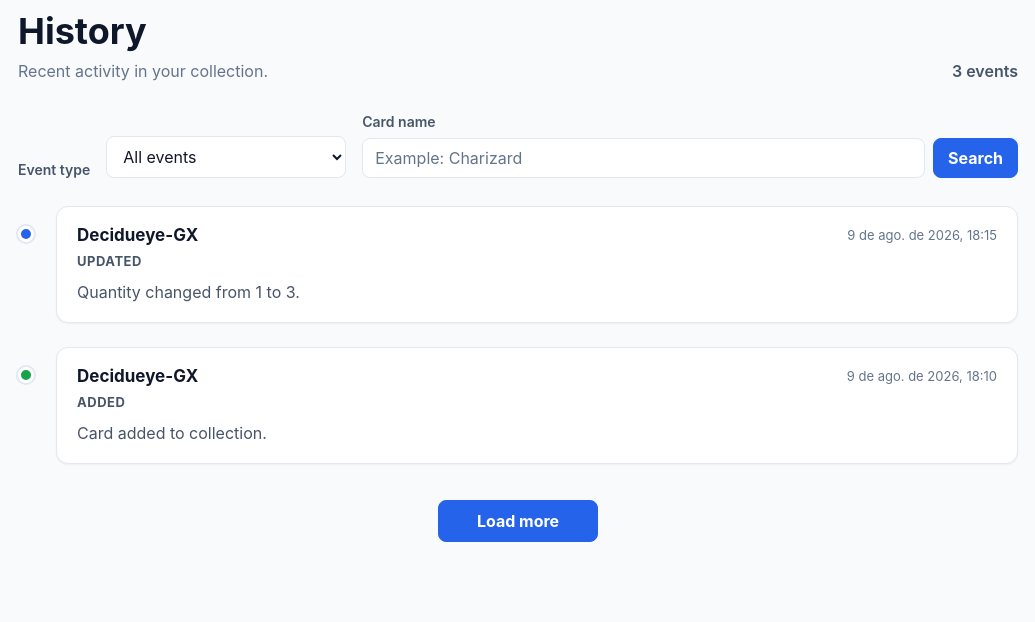
it: HistoryPage › should load more history
Check: the text "Quantity changed from 1 to 3." is shown, box [77,282,300,302]
Click the button "Load more": (518, 521) [438,500,598,542]
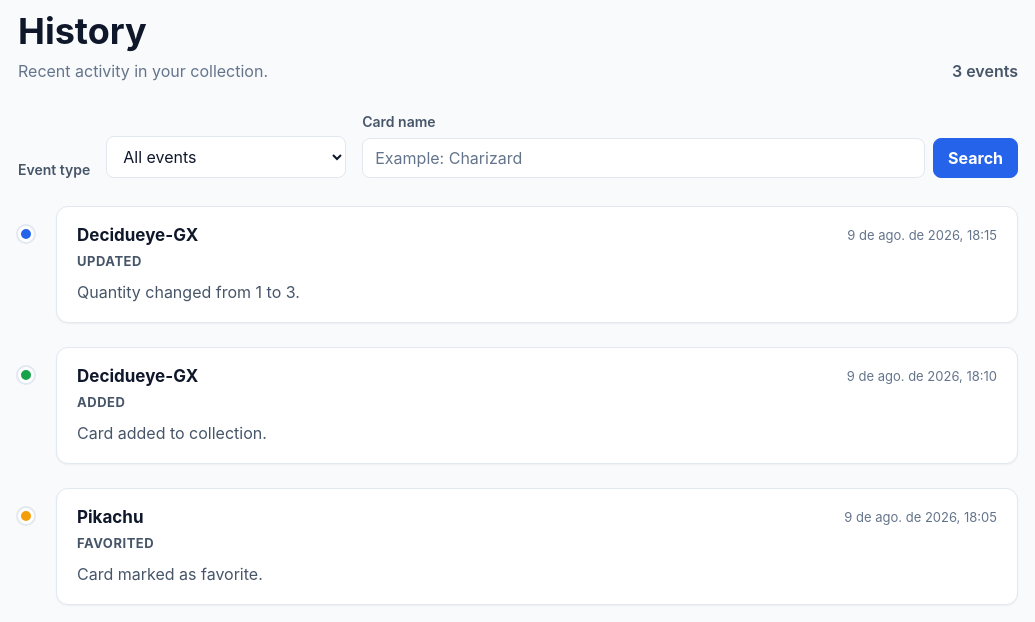
Check: the text "Card marked as favorite." is shown, box [77,564,263,584]
Check: the button "Load more" is gone
